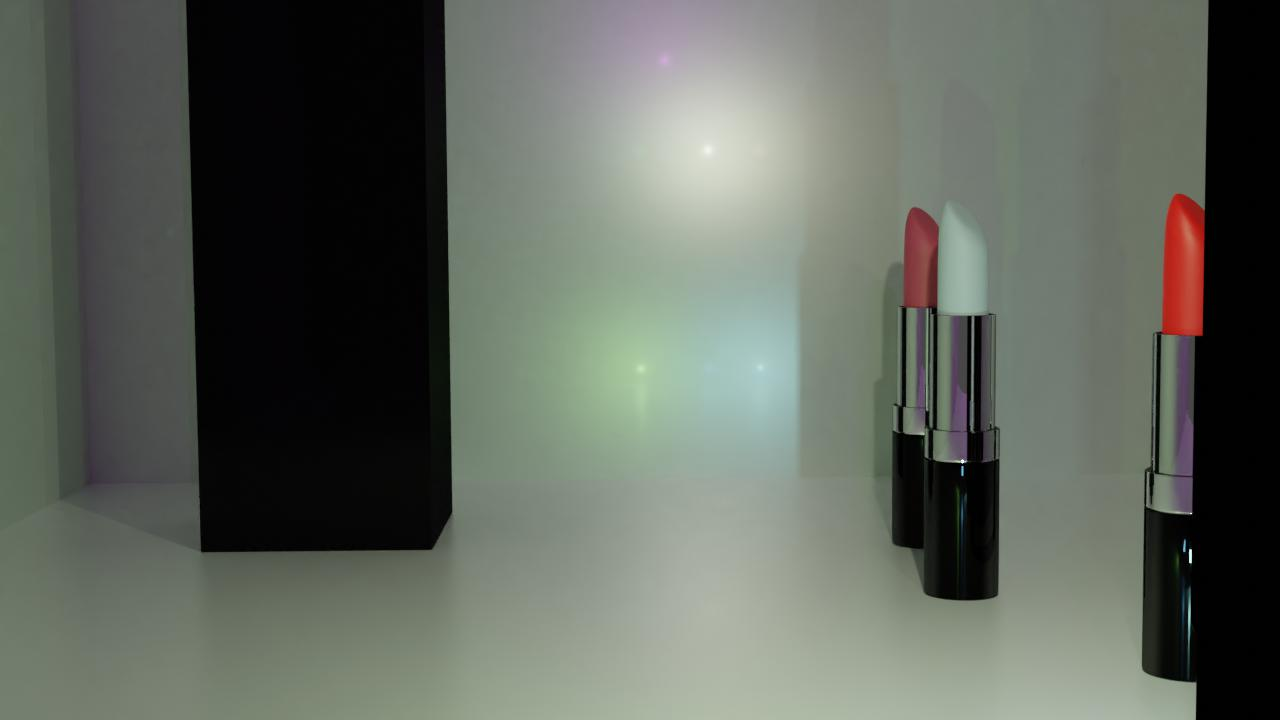CLASSIFIER_NAME: (1139, 187, 1241, 682), (922, 194, 1002, 601), (890, 203, 959, 554)
